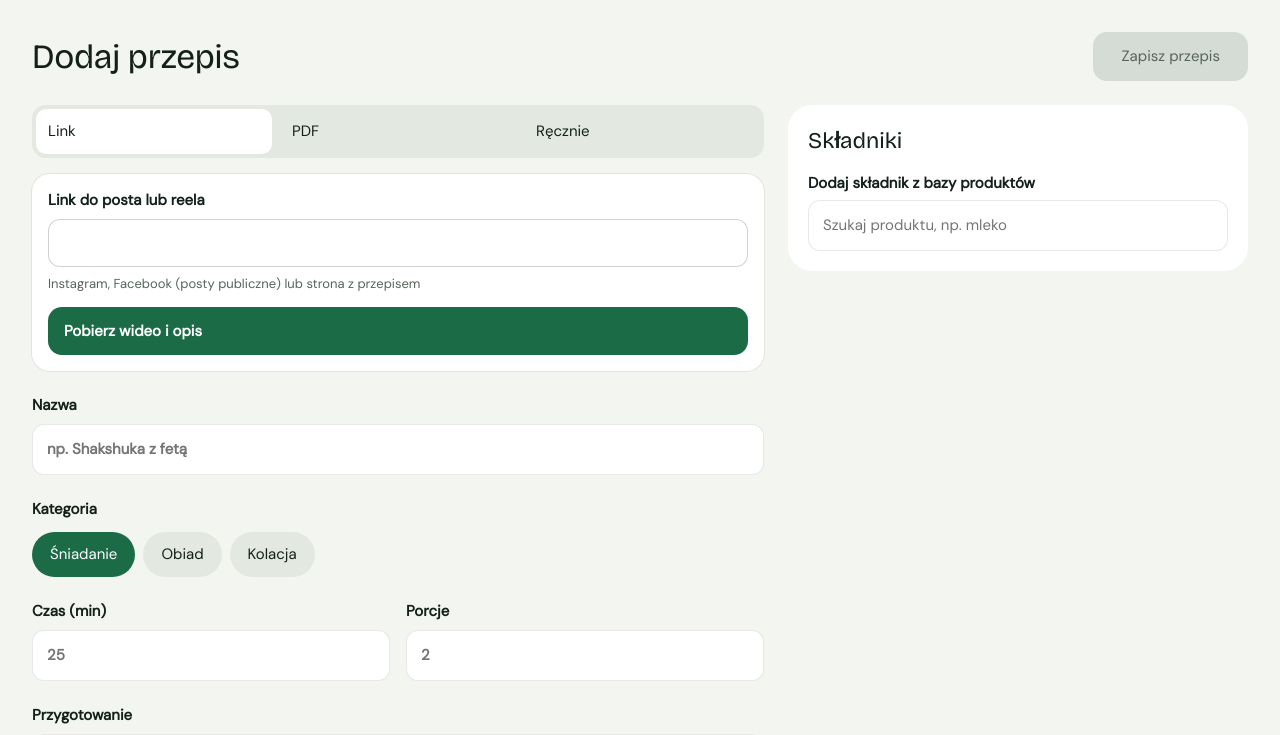
Test case: licznik wyklucza pominięte i usunięte wiersze z obu liczb
Expected: the button "Pobierz wideo i opis" is shown, x1=48 y1=307 x2=748 y2=355
Step 1. Type "https://recipes.example/zupa" into the field labelled "Link do posta lub reela" → (398, 243), box x1=48 y1=219 x2=748 y2=267
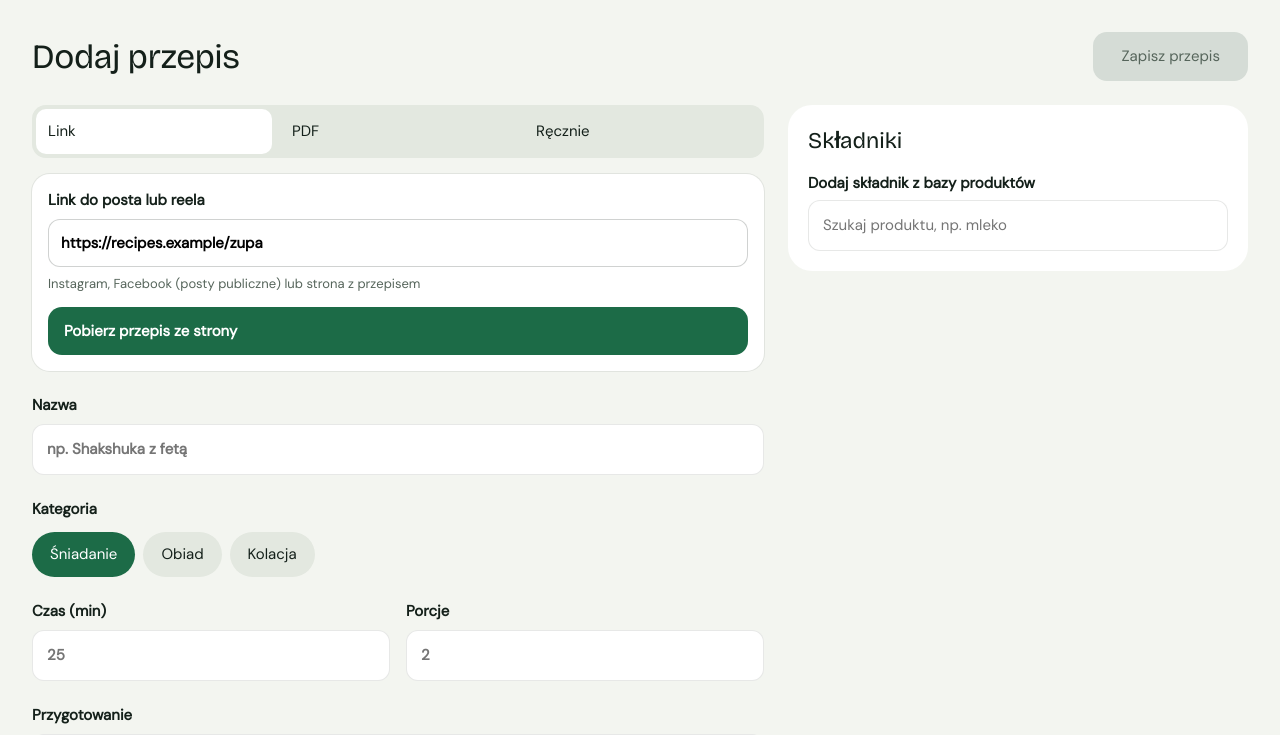
Step 2. Click the button "Pobierz przepis ze strony" → click(151, 331), box x1=48 y1=307 x2=748 y2=355
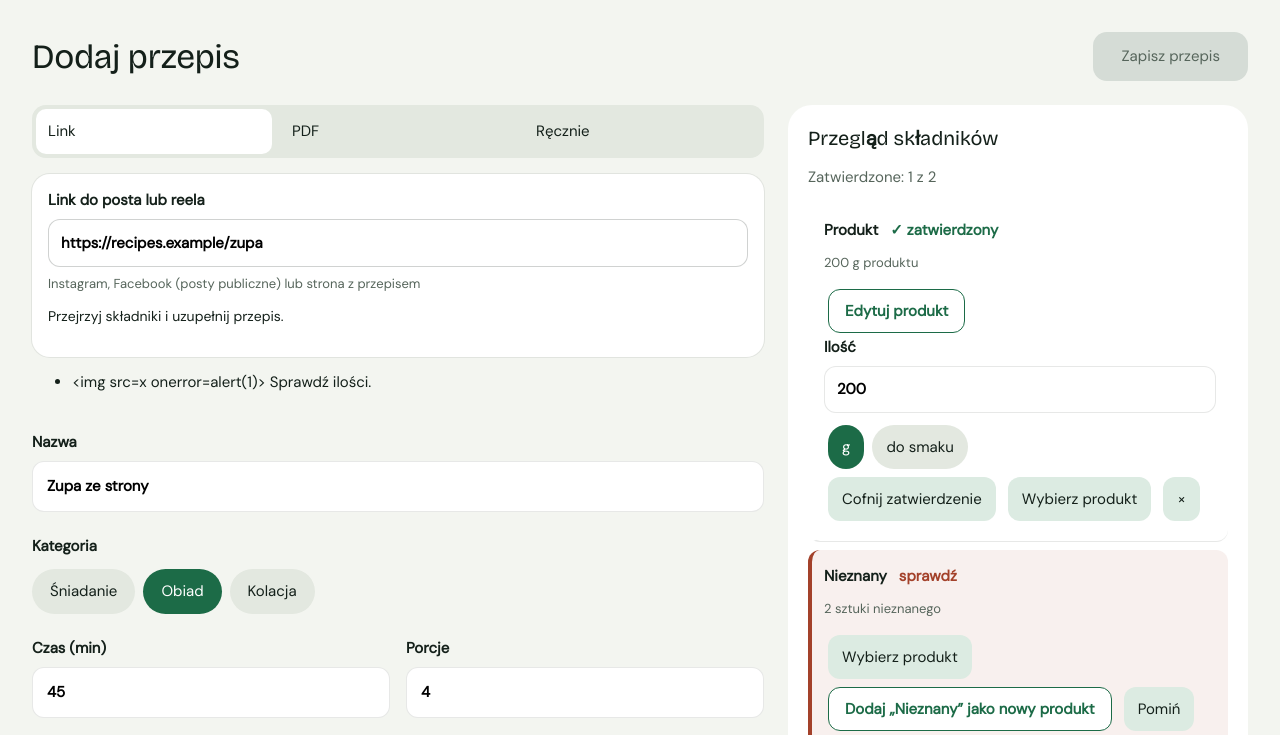
Expected: the heading "Przegląd składników" is shown, x1=808 y1=126 x2=998 y2=150
Expected: the text "Zatwierdzone: 1 z 2" is shown, x1=808 y1=167 x2=936 y2=187
Step 3. Click the button with aria-label "Pomiń składnik: Nieznany" → click(1159, 709), box x1=1124 y1=687 x2=1194 y2=731
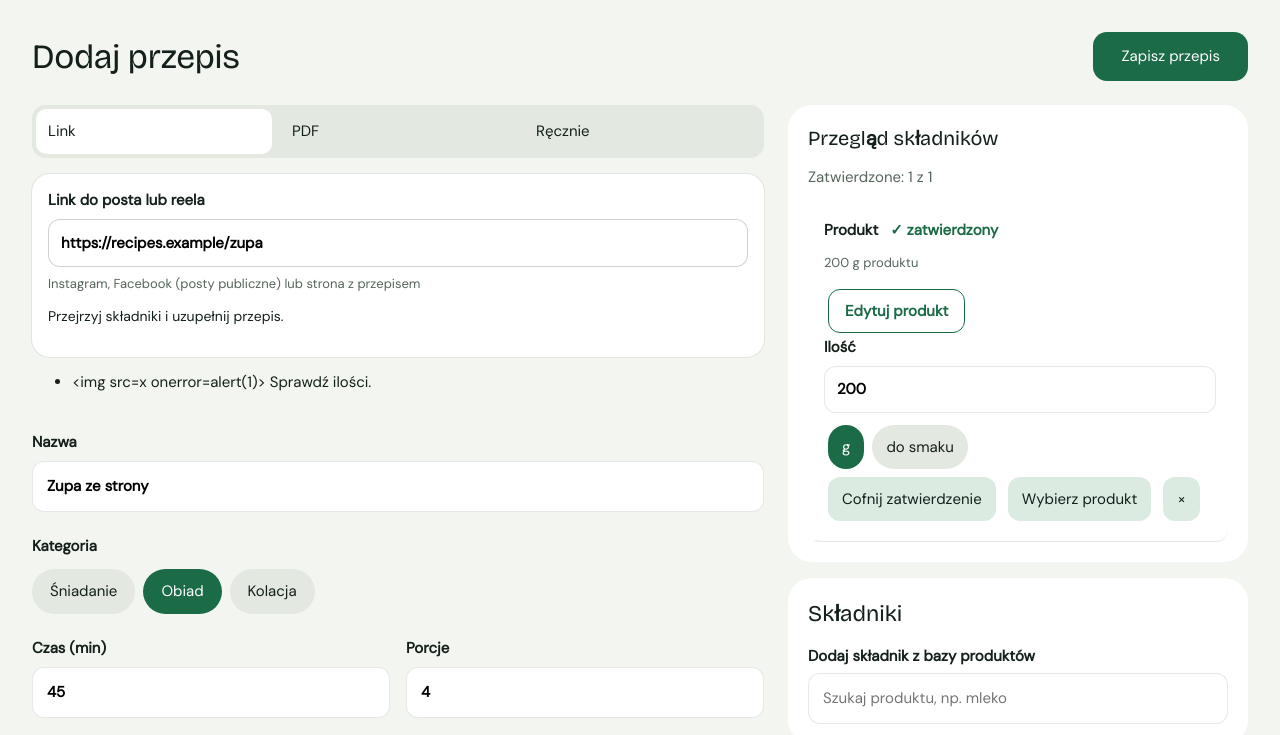
Expected: the text "Zatwierdzone: 1 z 1" is shown, x1=808 y1=167 x2=932 y2=187
Step 4. Click the button named "Usuń składnik: Produkt" → click(1182, 499), box x1=1163 y1=477 x2=1200 y2=521
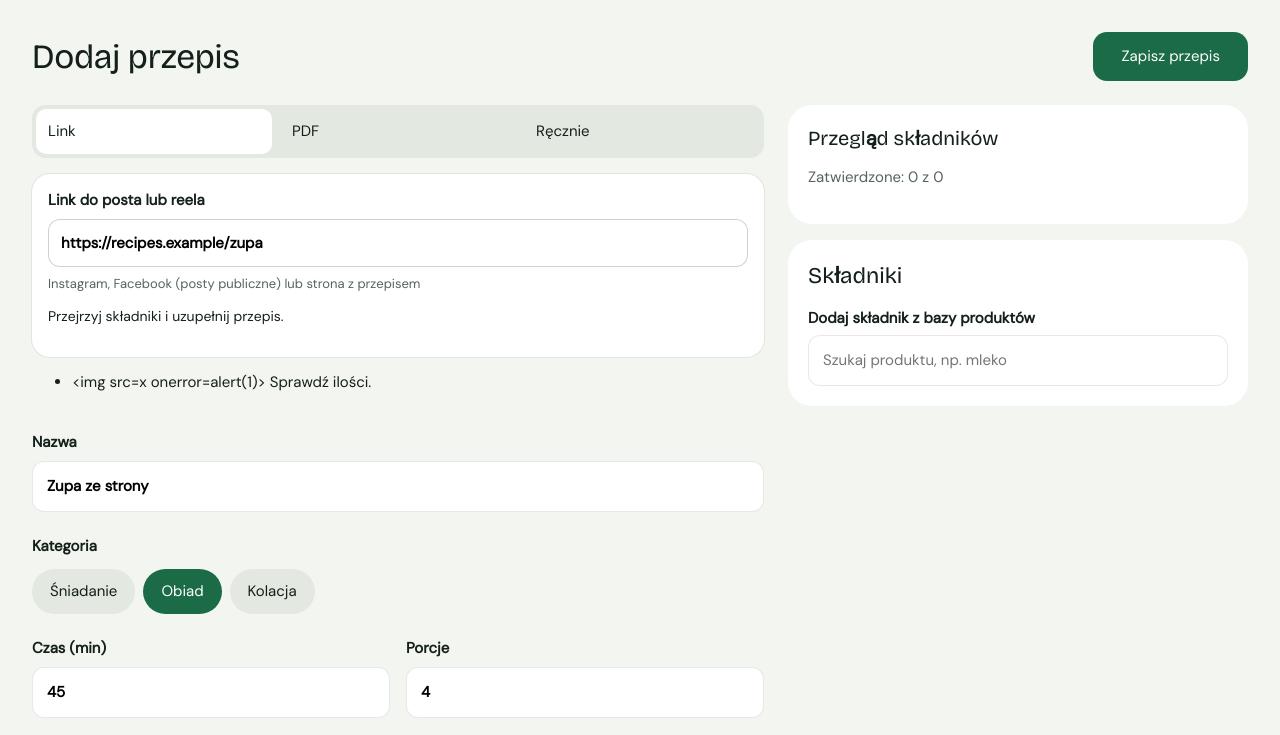
Expected: the button "Zapisz przepis" is enabled, x1=1094 y1=32 x2=1248 y2=81
Expected: the text "Zatwierdzone: 0 z 0" is shown, x1=808 y1=167 x2=944 y2=187
